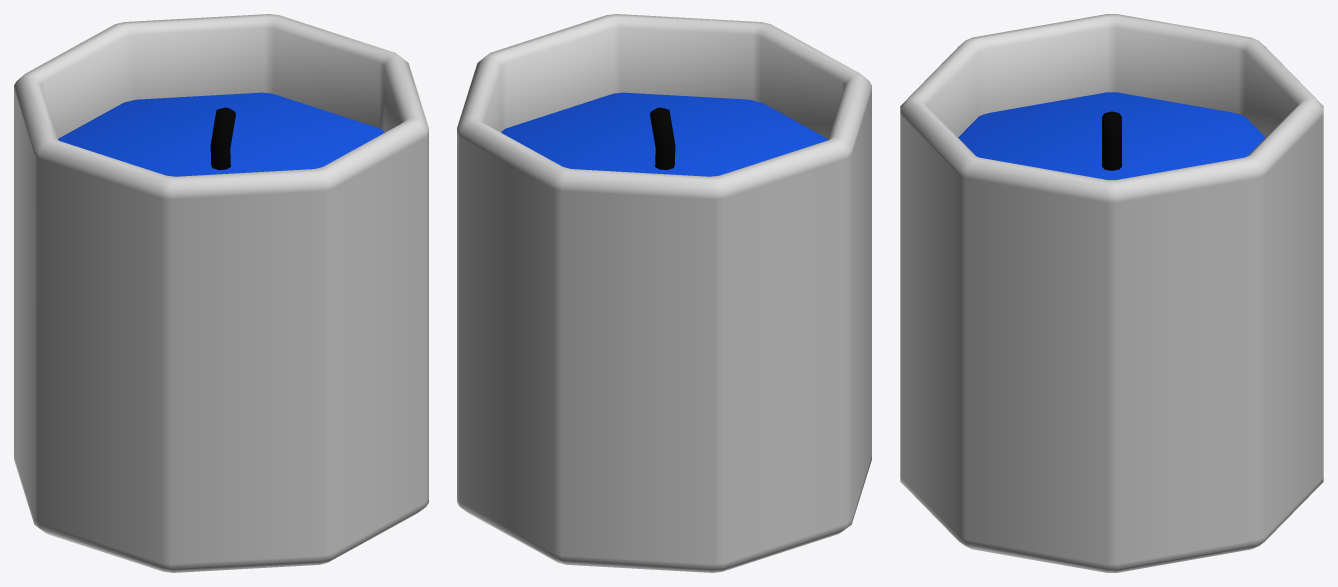
Rendered from Candle_Small_Angular.fbx.
The picture shows the model from 3 angles, left to right: view 1: azimuth 30°, elevation 25°; view 2: azimuth 150°, elevation 25°; view 3: azimuth 270°, elevation 25°; orthographic projection.
Visible parts, largest first — view 1: Candle_Small_Angular; view 2: Candle_Small_Angular; view 3: Candle_Small_Angular.
Boxes of the visible parts, x1,y1,x2,y2 form: Candle_Small_Angular: (14, 14, 428, 572); Candle_Small_Angular: (457, 14, 871, 572); Candle_Small_Angular: (900, 14, 1323, 572).
Bounding box in the file's own units: 7.69 × 7.8 × 7.69.
